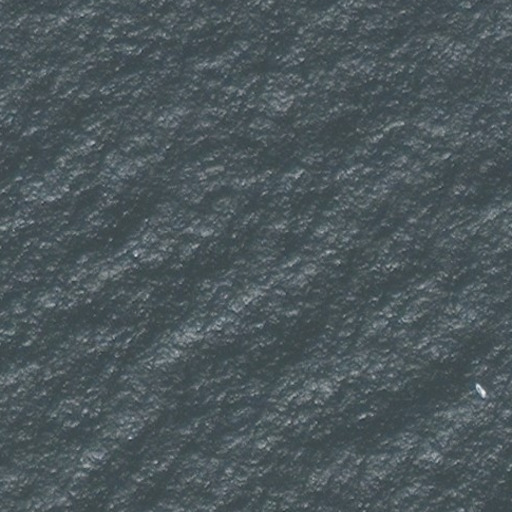ship: (472, 380, 489, 401)
